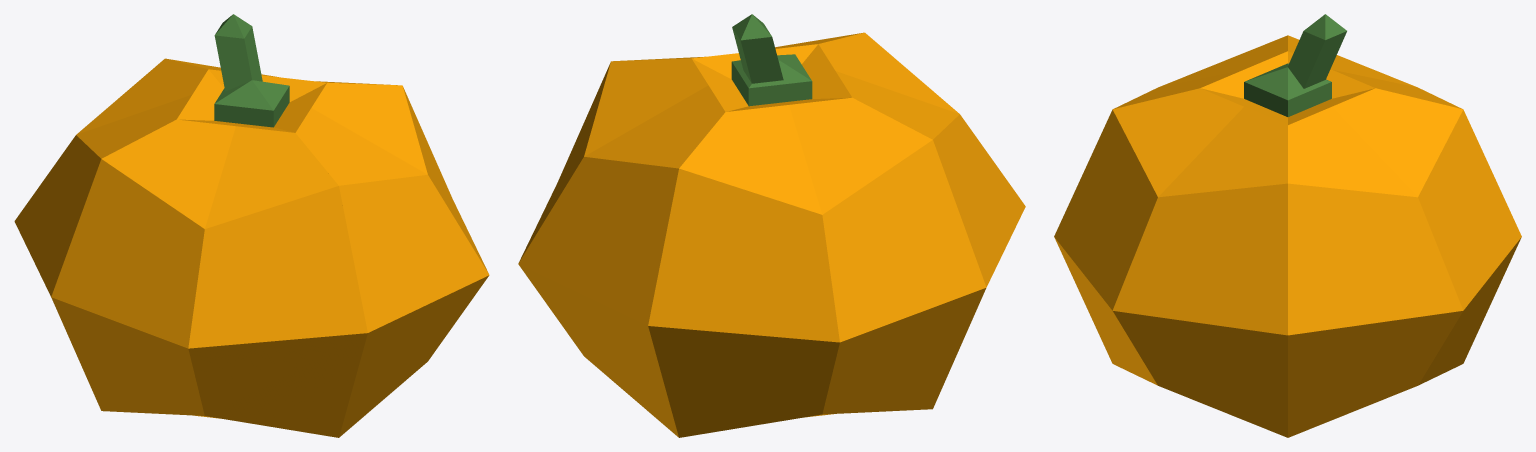
The model's file is CutieSliced.fbx.
The picture shows the model from 3 angles, left to right: view 1: azimuth 30°, elevation 25°; view 2: azimuth 150°, elevation 25°; view 3: azimuth 270°, elevation 25°; orthographic projection. The views are drawn at different scales.
Parts seen in each view (by area): view 1: Cube.000, Cube.008, Cube.004, Cube.007, Cube.006, Cube.009, Cube.002, Cube.001, Cube.005; view 2: Cube.009, Cube.007, Cube.010, Cube.008, Cube.005, Cube.000, Cube.002, Cube.001, Cube.006, Cube.004; view 3: Cube.006, Cube.005, Cube.010, Cube.004, Cube.002, Cube.001, Cube.008, Cube.000, Cube.009, Cube.007.
Part boxes in pixels (bbox=[...]): Cube.000: bbox=[188, 124, 367, 437]; Cube.008: bbox=[51, 119, 243, 418]; Cube.004: bbox=[274, 108, 489, 437]; Cube.007: bbox=[14, 94, 214, 296]; Cube.006: bbox=[282, 82, 488, 273]; Cube.009: bbox=[76, 58, 223, 134]; Cube.002: bbox=[214, 80, 289, 127]; Cube.001: bbox=[214, 14, 262, 91]; Cube.005: bbox=[266, 76, 397, 101]; Cube.009: bbox=[648, 102, 839, 437]; Cube.007: bbox=[781, 97, 986, 417]; Cube.010: bbox=[518, 85, 748, 437]; Cube.008: bbox=[812, 71, 1025, 286]; Cube.005: bbox=[519, 58, 739, 261]; Cube.000: bbox=[802, 32, 959, 113]; Cube.002: bbox=[731, 54, 812, 106]; Cube.001: bbox=[732, 14, 783, 83]; Cube.006: bbox=[613, 53, 740, 79]; Cube.004: bbox=[775, 32, 863, 64]; Cube.006: bbox=[1112, 106, 1287, 437]; Cube.005: bbox=[1288, 106, 1463, 437]; Cube.010: bbox=[1311, 88, 1521, 385]; Cube.004: bbox=[1054, 88, 1264, 385]; Cube.002: bbox=[1244, 63, 1331, 116]; Cube.001: bbox=[1287, 14, 1346, 88]; Cube.008: bbox=[1160, 35, 1287, 86]; Cube.000: bbox=[1113, 69, 1252, 109]; Cube.009: bbox=[1326, 69, 1462, 109]; Cube.007: bbox=[1288, 35, 1415, 86].
Size of the model in its own units: 250 by 219 by 250.
